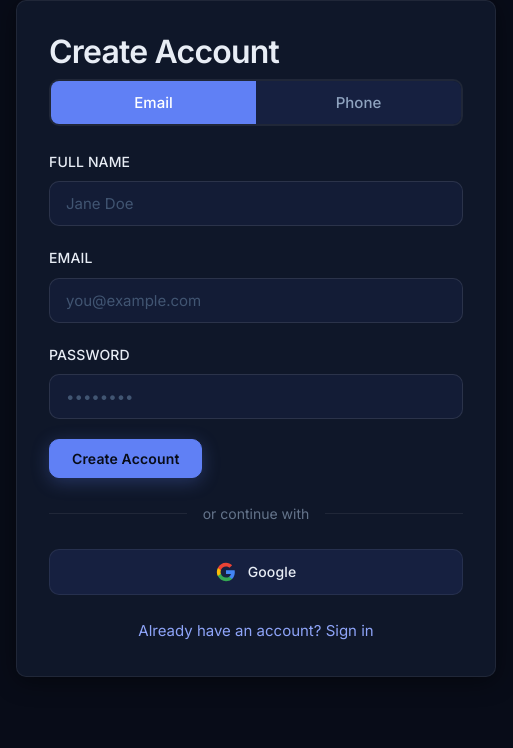
Test: Signup Mode › form validation › shows error for empty email
Click the button "Create Account": [126, 458] box [49,439,202,478]
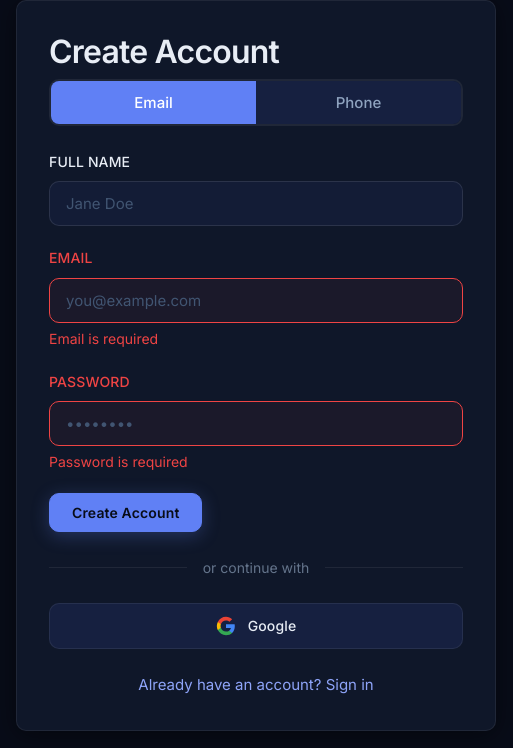
Expected: the text "Email is required" is shown, [49,330,158,347]
